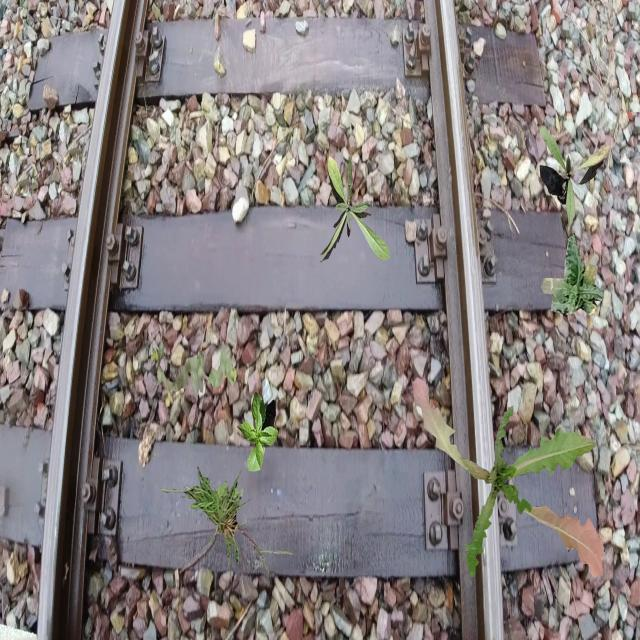Plant: (412, 377, 604, 580), (150, 466, 294, 586), (318, 155, 390, 263), (539, 126, 610, 225), (151, 339, 238, 408), (541, 233, 604, 316), (237, 392, 279, 472), (216, 481, 240, 522)
